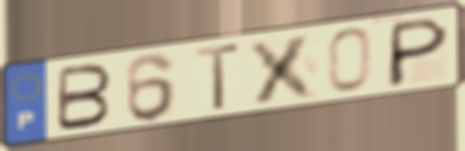0: (324, 24, 379, 96)
6: (123, 50, 179, 125)
B: (53, 61, 115, 134)
P: (383, 14, 453, 89)
T: (192, 40, 244, 113)
X: (245, 30, 323, 107)
